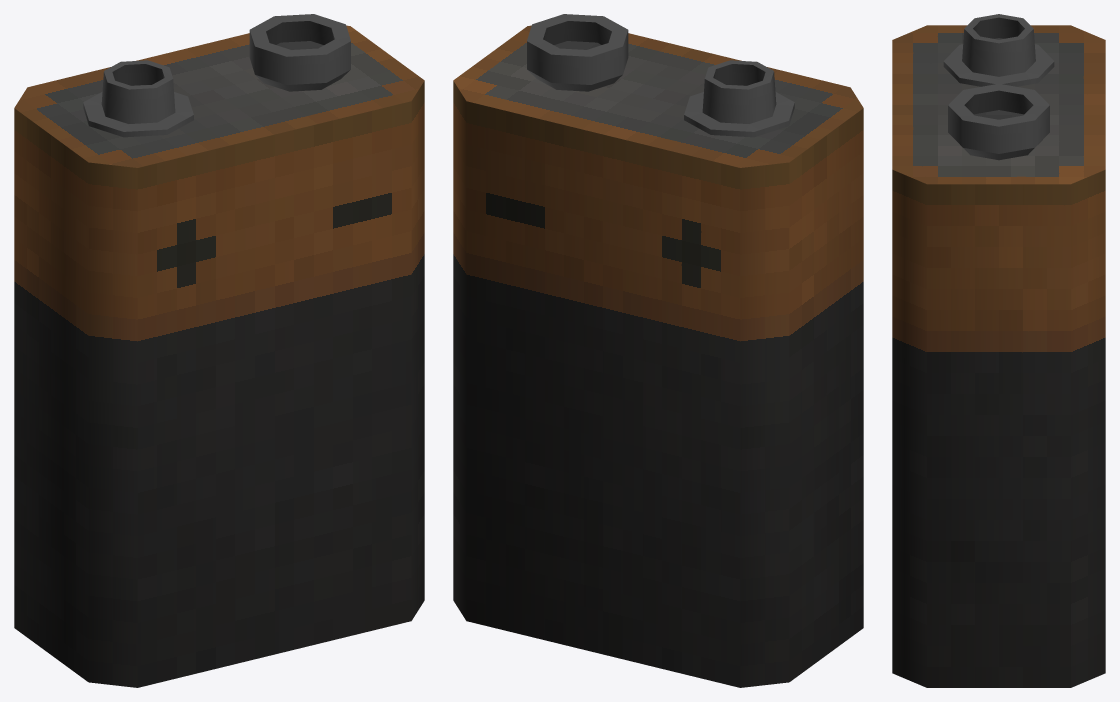
The model's file is battery_mp_3_2.glb.
The picture shows the model from 3 angles, left to right: view 1: azimuth 30°, elevation 25°; view 2: azimuth 150°, elevation 25°; view 3: azimuth 270°, elevation 25°; orthographic projection. The views are drawn at different scales.
Visible parts, largest first — view 1: battery_mp_3_2; view 2: battery_mp_3_2; view 3: battery_mp_3_2.
Boxes of the visible parts, left/top/right/bottom form: battery_mp_3_2: left=14, top=14, right=424, bottom=687; battery_mp_3_2: left=453, top=14, right=863, bottom=687; battery_mp_3_2: left=892, top=14, right=1105, bottom=687.
Bounding box in the file's own units: 0.0648 × 0.103 × 0.0368.
1 material, 1 textured.
